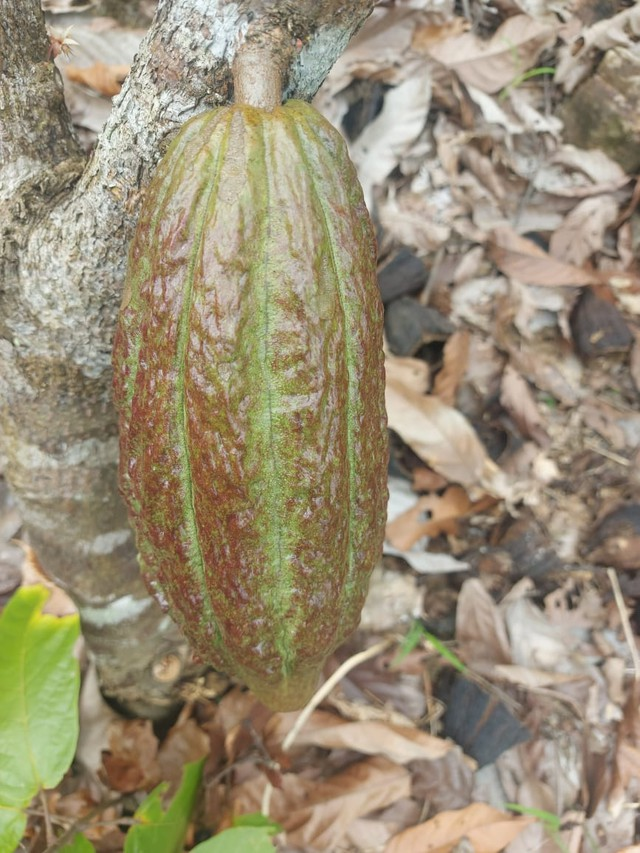Health: (104, 72, 398, 722)
